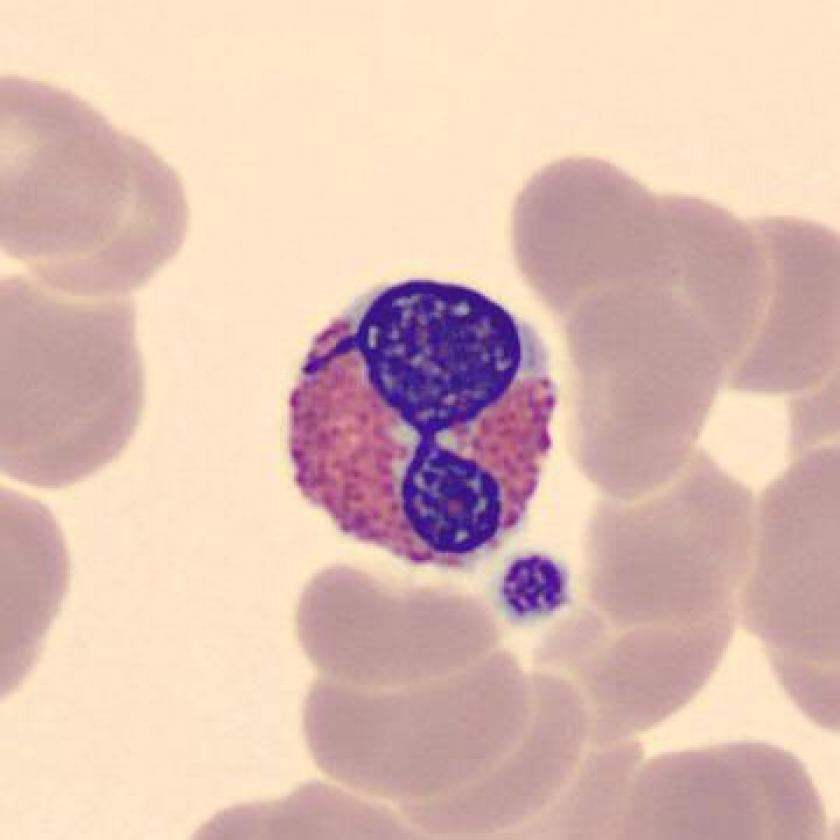eosinophil: (270, 263, 571, 580)
